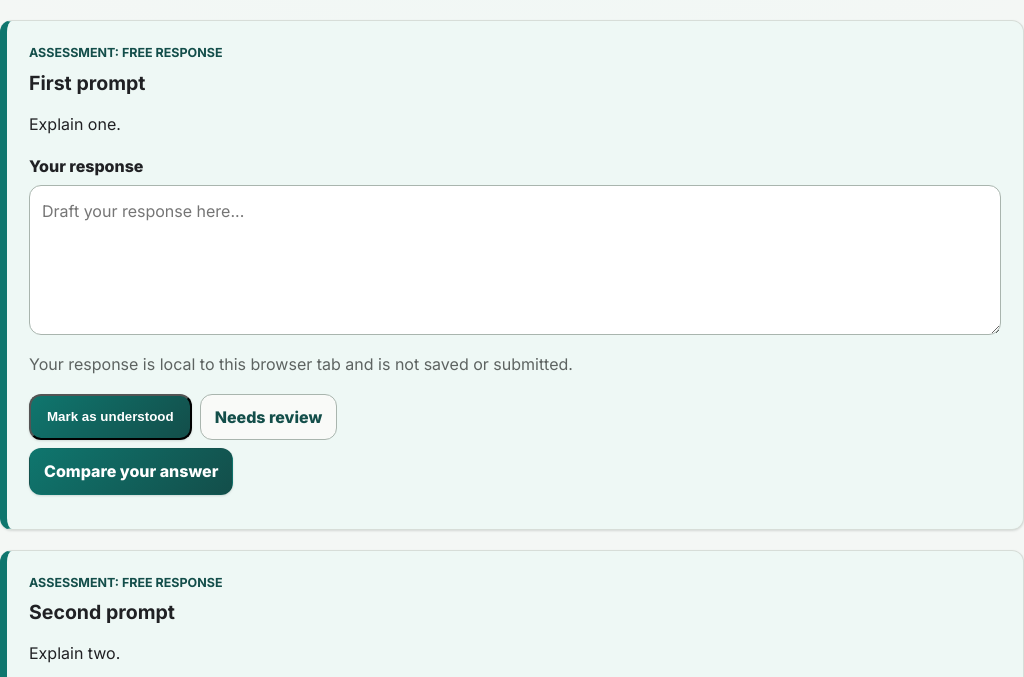
assessment interactions › keeps free-response textarea and guidance state local per component
Type "Local draft" into the text box labelled "Your response" below "Explain one." at (515, 260), box [29,185,1001,335]
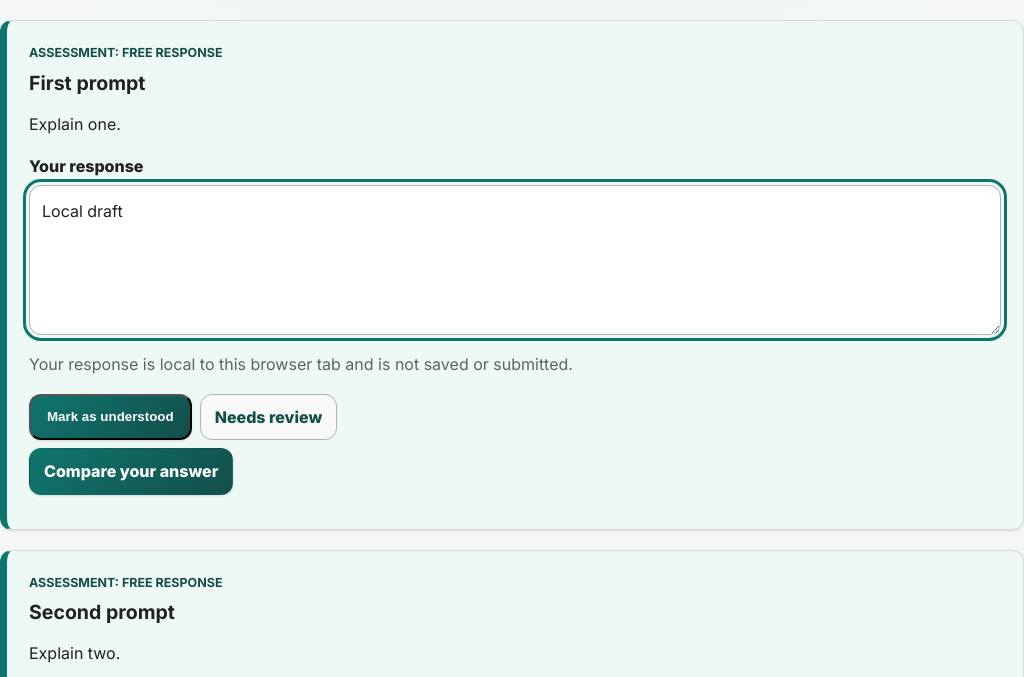
Click the button "Compare your answer" at (131, 471), box [29,448,233,495]
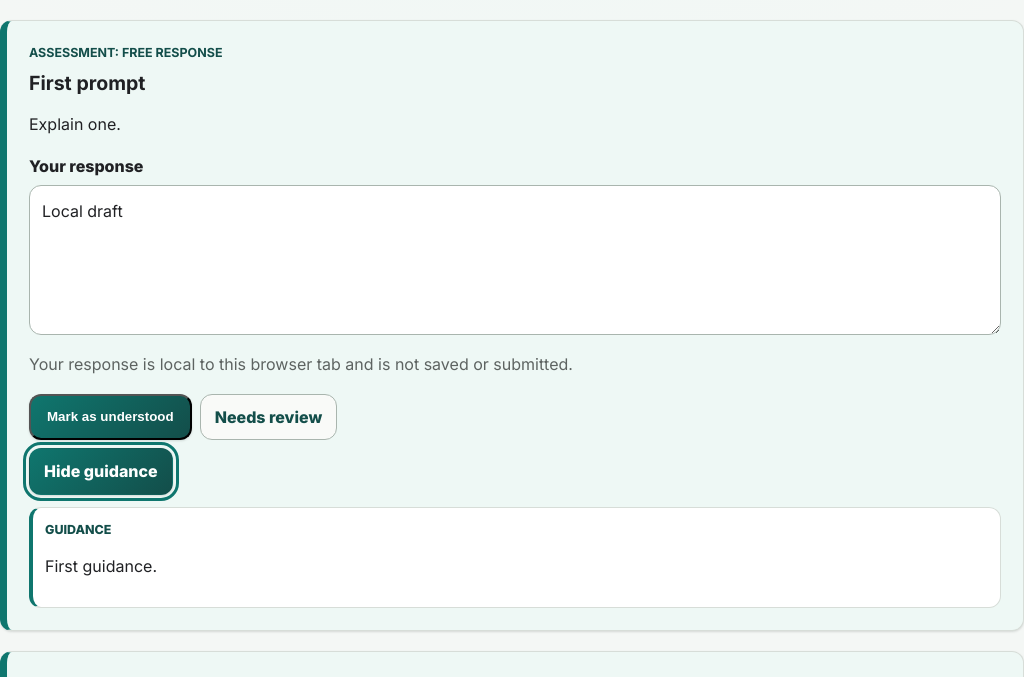
expect the text "First guidance." is shown: met, box [45,556,157,576]
